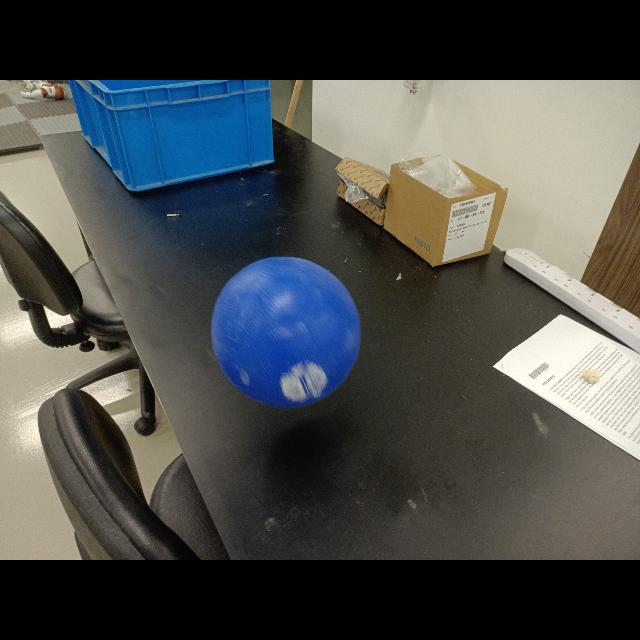B: (212, 252, 368, 408)
